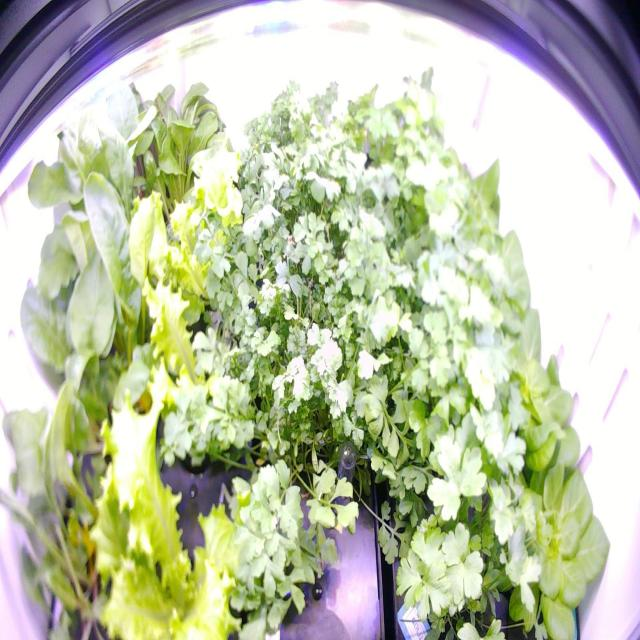young: (473, 456, 617, 640), (458, 304, 592, 490), (426, 218, 541, 355)
